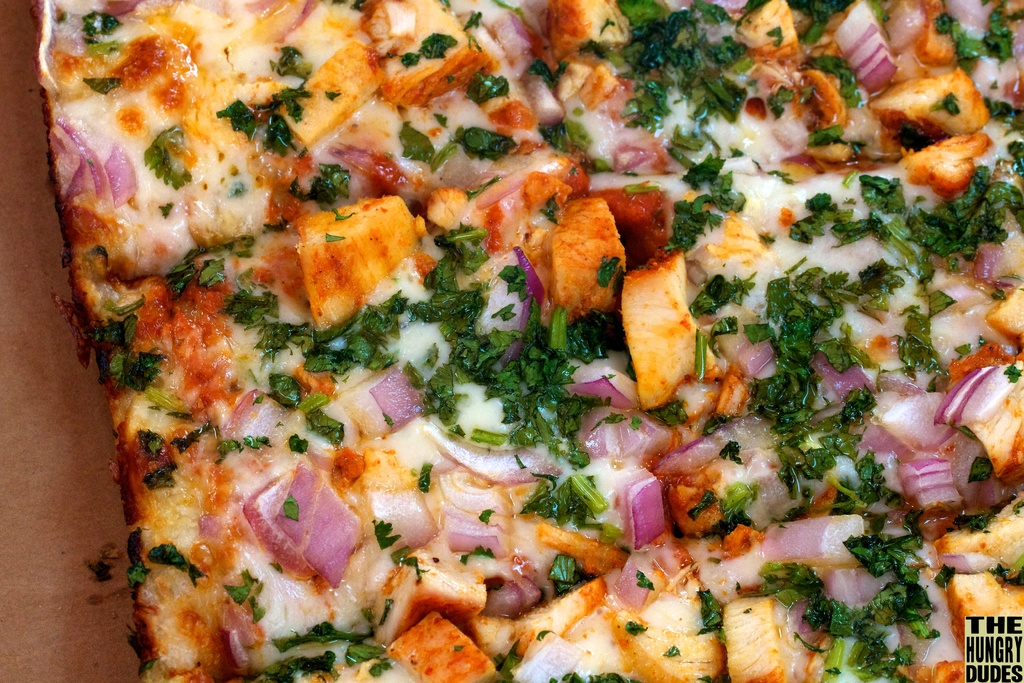Pizza: (7, 0, 1024, 683)
